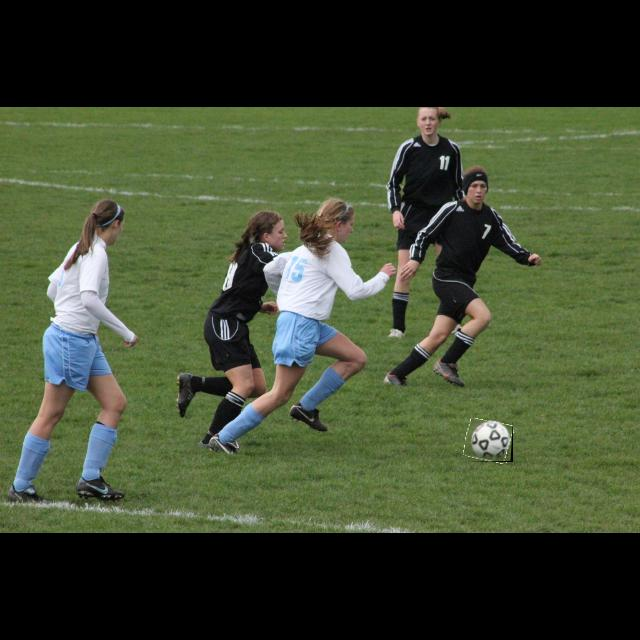Football: (465, 420, 513, 462)
